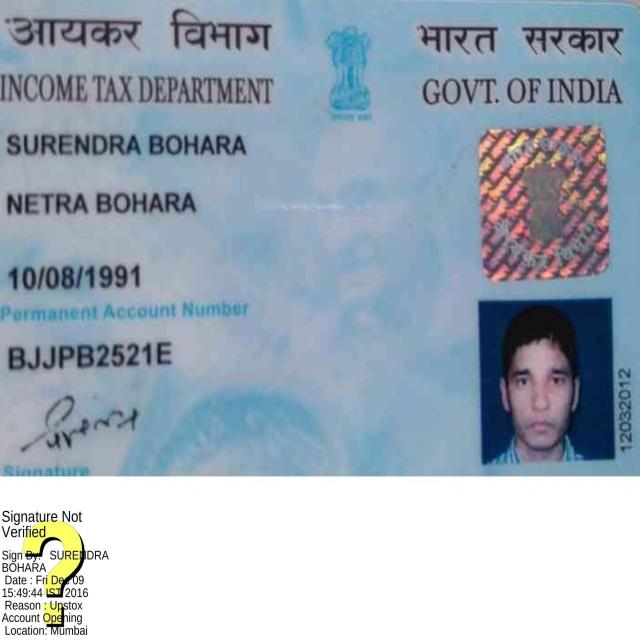pan_card: (0, 1, 640, 477)
